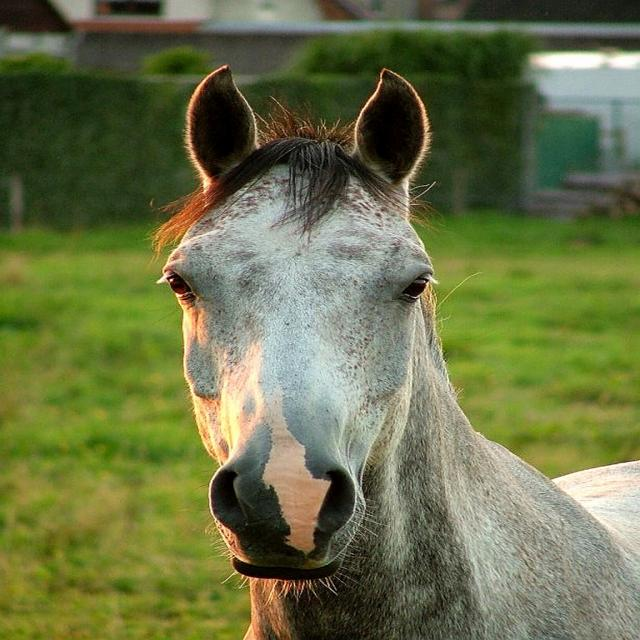Horse: (147, 65, 639, 640)
